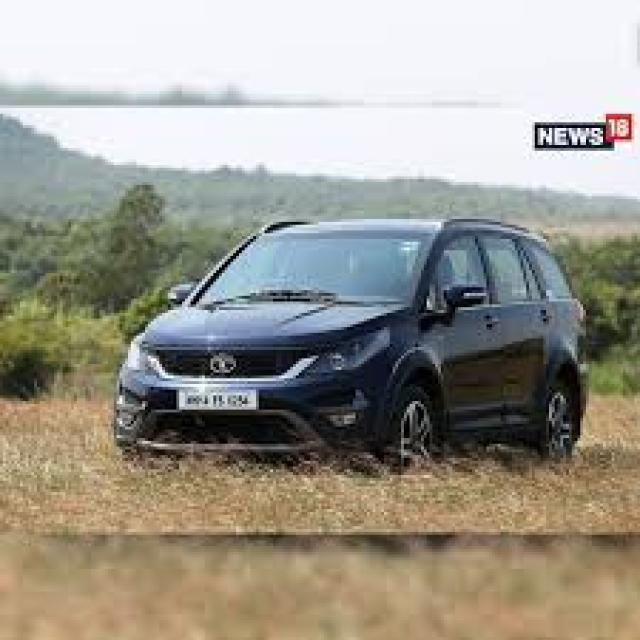SUV: (114, 220, 595, 473)
